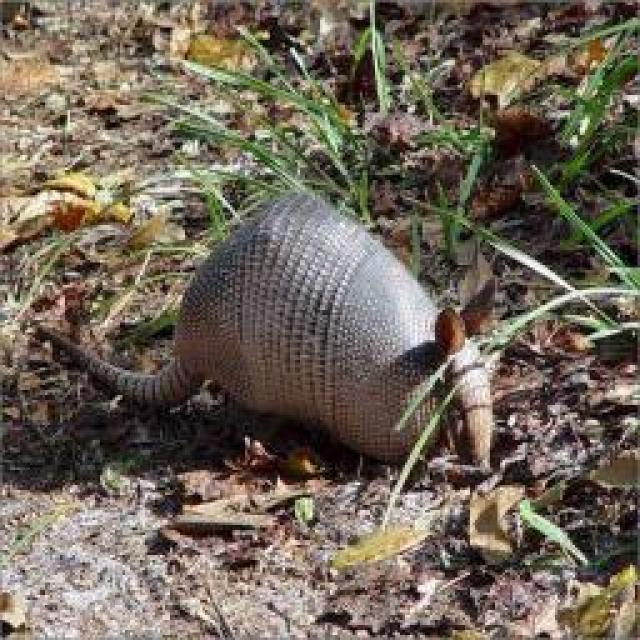pig: (35, 186, 500, 472)
